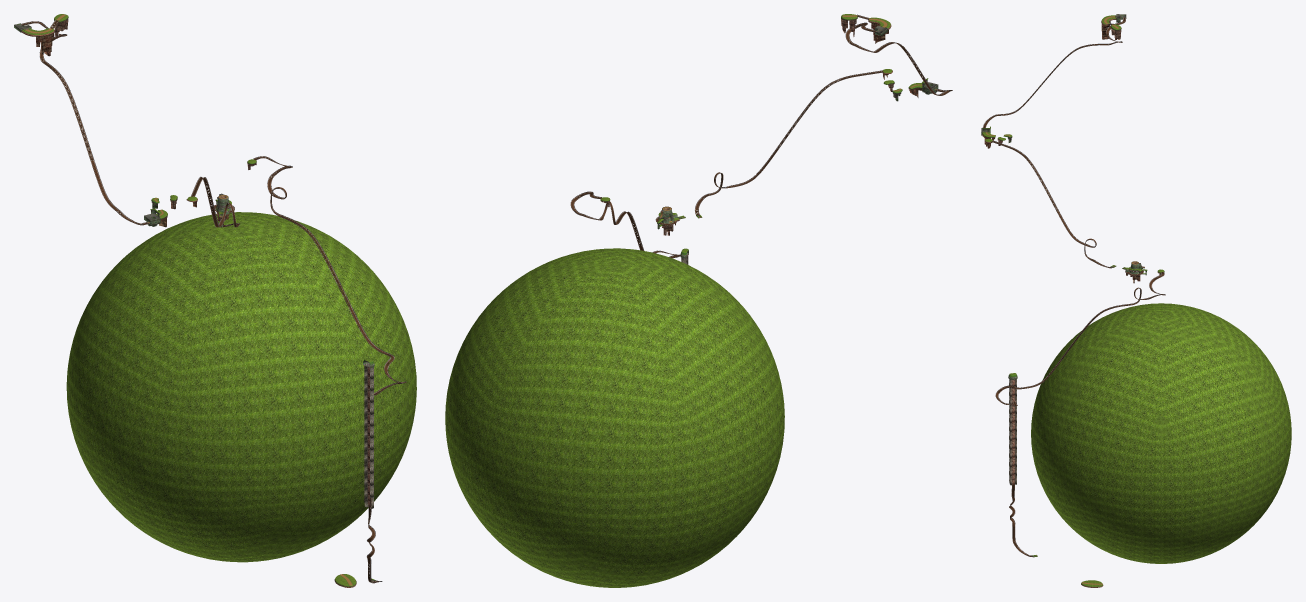
Rendered from WindyValley.obj.
3 views of the same model, side by side, from view 1: azimuth 30°, elevation 25°; view 2: azimuth 150°, elevation 25°; view 3: azimuth 270°, elevation 25° (orthographic). The views are drawn at different scales.
Size of the model in its own units: 7124 by 10457 by 6386.
28 materials, 28 textured.
